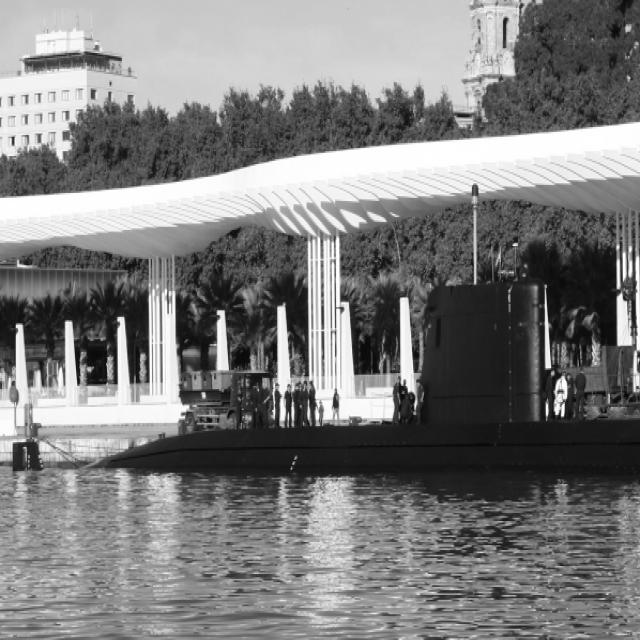submarine: (82, 250, 640, 472)
